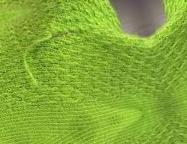snag: (21, 30, 55, 90)
